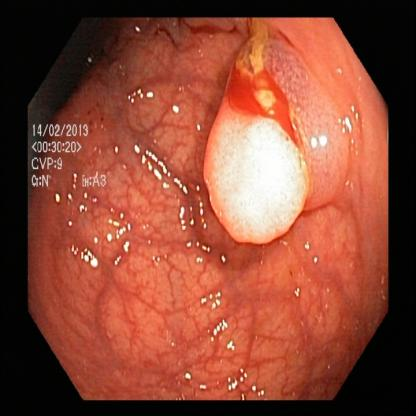Labels: (28, 114, 110, 195)
Polyps: (210, 75, 350, 239)
